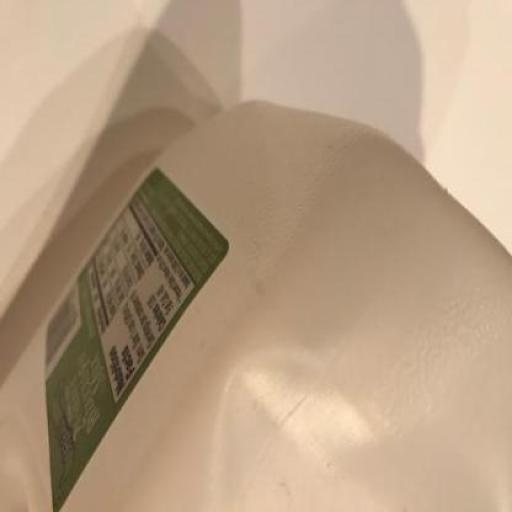plastic: (1, 102, 511, 511)
